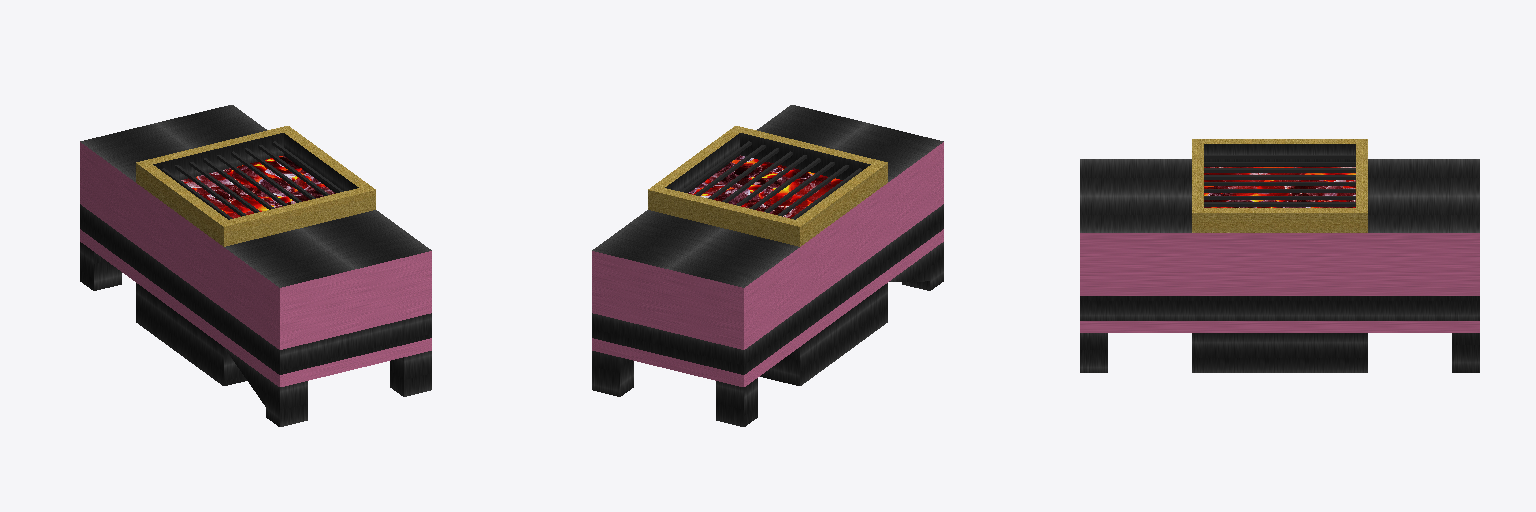
3 renders of one model, left to right at view 1: azimuth 30°, elevation 25°; view 2: azimuth 150°, elevation 25°; view 3: azimuth 270°, elevation 25°, orthographic.
Parts seen in each view (by area): view 1: Cube, stripe_Cube.003, top.001_Cube.008, top_Cube.005, bars_Cube.002, coal_Cube.001; view 2: Cube, stripe_Cube.003, top.001_Cube.008, top_Cube.005, bars_Cube.002, coal_Cube.001; view 3: Cube, stripe_Cube.003, top.001_Cube.008, top_Cube.005, bars_Cube.002, coal_Cube.001.
Part boxes in pixels (bbox=[...]): Cube: bbox=[80, 142, 431, 386]; stripe_Cube.003: bbox=[80, 133, 431, 426]; top.001_Cube.008: bbox=[80, 105, 431, 287]; top_Cube.005: bbox=[136, 126, 375, 246]; bars_Cube.002: bbox=[162, 141, 343, 219]; coal_Cube.001: bbox=[181, 155, 335, 218]; Cube: bbox=[592, 142, 943, 386]; stripe_Cube.003: bbox=[592, 133, 943, 426]; top.001_Cube.008: bbox=[592, 105, 943, 287]; top_Cube.005: bbox=[648, 126, 887, 246]; bars_Cube.002: bbox=[680, 141, 861, 219]; coal_Cube.001: bbox=[688, 155, 842, 218]; Cube: bbox=[1080, 233, 1479, 332]; stripe_Cube.003: bbox=[1080, 144, 1479, 372]; top.001_Cube.008: bbox=[1080, 159, 1479, 232]; top_Cube.005: bbox=[1192, 139, 1367, 232]; bars_Cube.002: bbox=[1204, 155, 1355, 206]; coal_Cube.001: bbox=[1204, 167, 1355, 207].
Size of the model in its own units: 1.1 by 1.1 by 2.5.
5 materials, 4 textured.